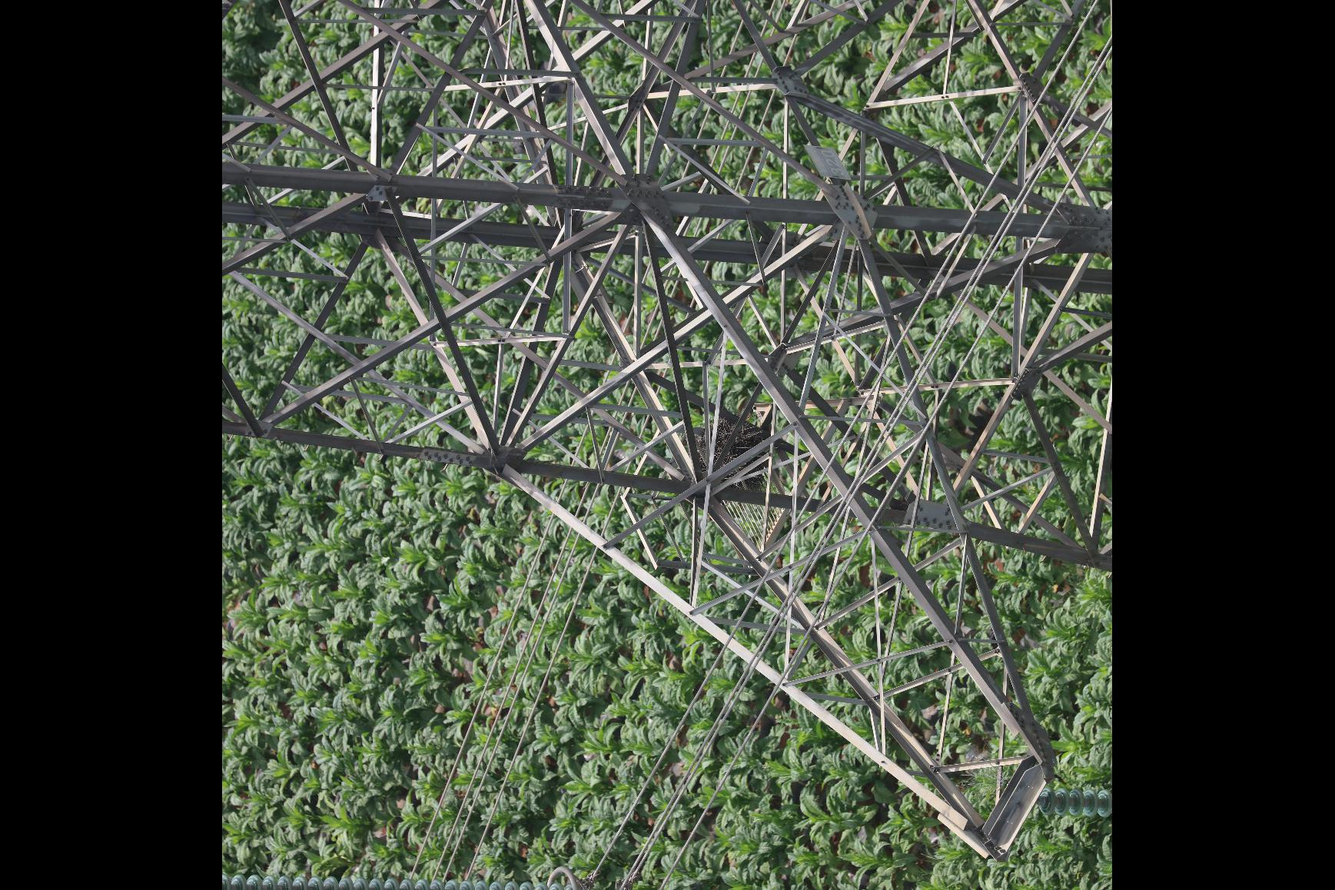nest: (695, 415, 769, 477)
